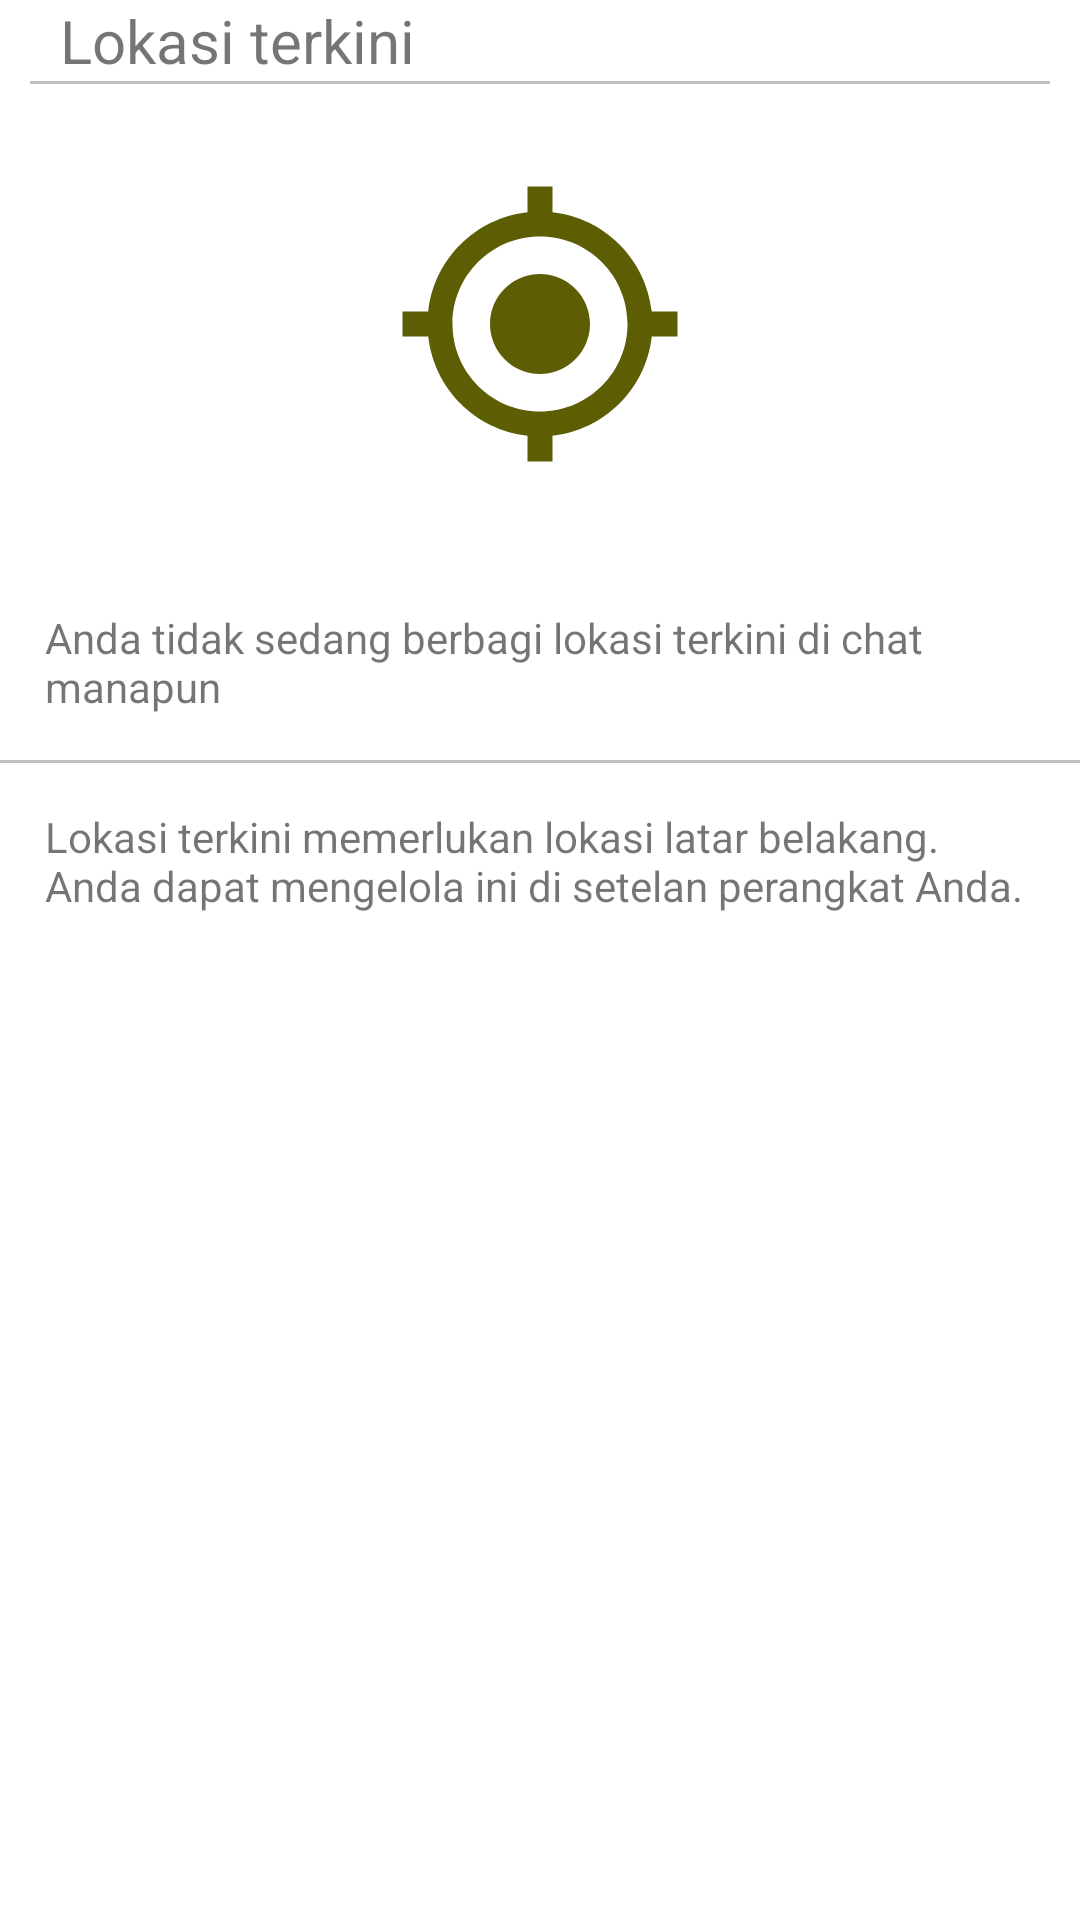

Icons on this 1080px x 1920px Android screen, each with the point to tap as [x,y]:
location: [540,324]
